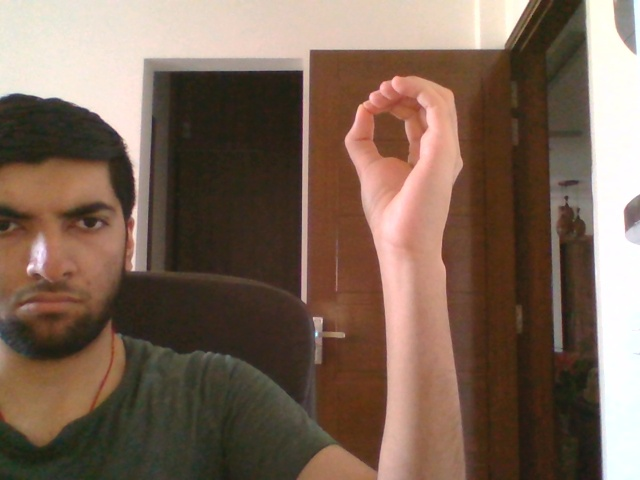LetterO: (342, 73, 464, 254)
